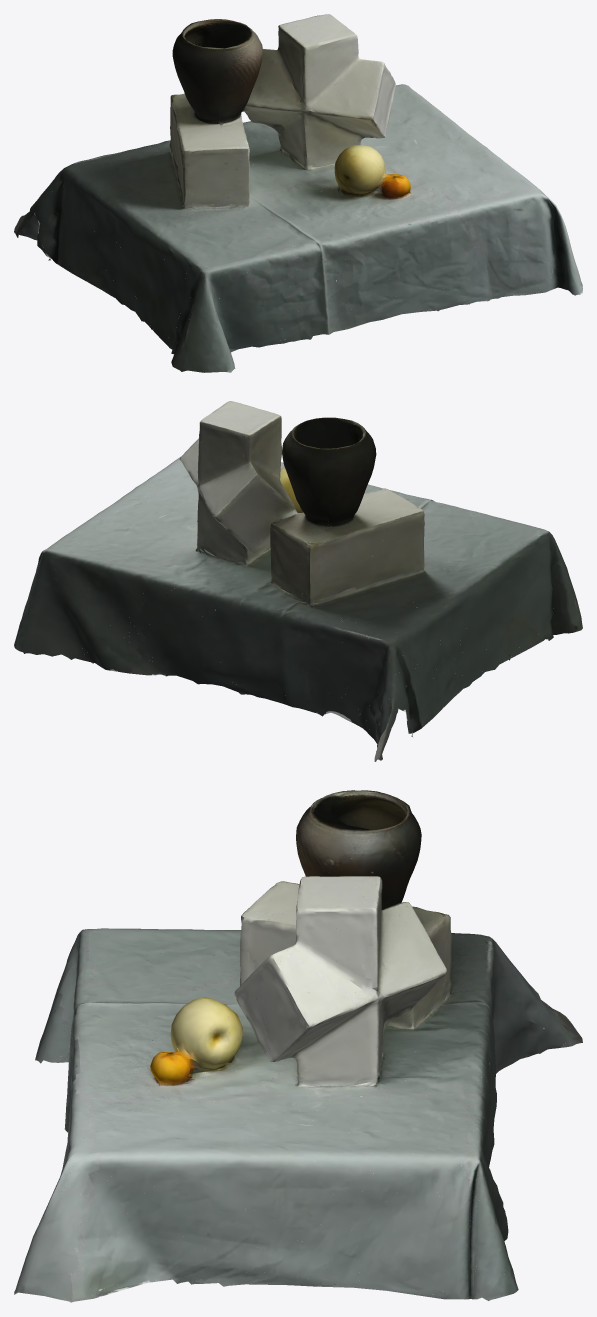
File: 静物_其它_几何体陶罐水果01_opt.glb
The picture shows the model from 3 angles, top to bottom: view 1: azimuth 30°, elevation 25°; view 2: azimuth 150°, elevation 25°; view 3: azimuth 270°, elevation 25°; orthographic projection. The views are drawn at different scales.
Parts seen in each view (by area): view 1: defaultMat, defaultMat_1; view 2: defaultMat, defaultMat_1; view 3: defaultMat, defaultMat_1.
Part boxes in pixels (x1,y1,x2,y2): defaultMat: (14, 14, 582, 372); defaultMat_1: (18, 15, 575, 356); defaultMat: (14, 401, 582, 761); defaultMat_1: (18, 407, 575, 736); defaultMat: (14, 790, 582, 1302); defaultMat_1: (26, 792, 575, 1299).
Bounding box in the file's own units: 0.5424 × 0.3 × 0.4818.
Materials: 1 (1 with a texture image).
